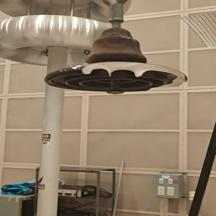insulator: (36, 24, 193, 104)
non-insulator: (36, 24, 193, 104)
